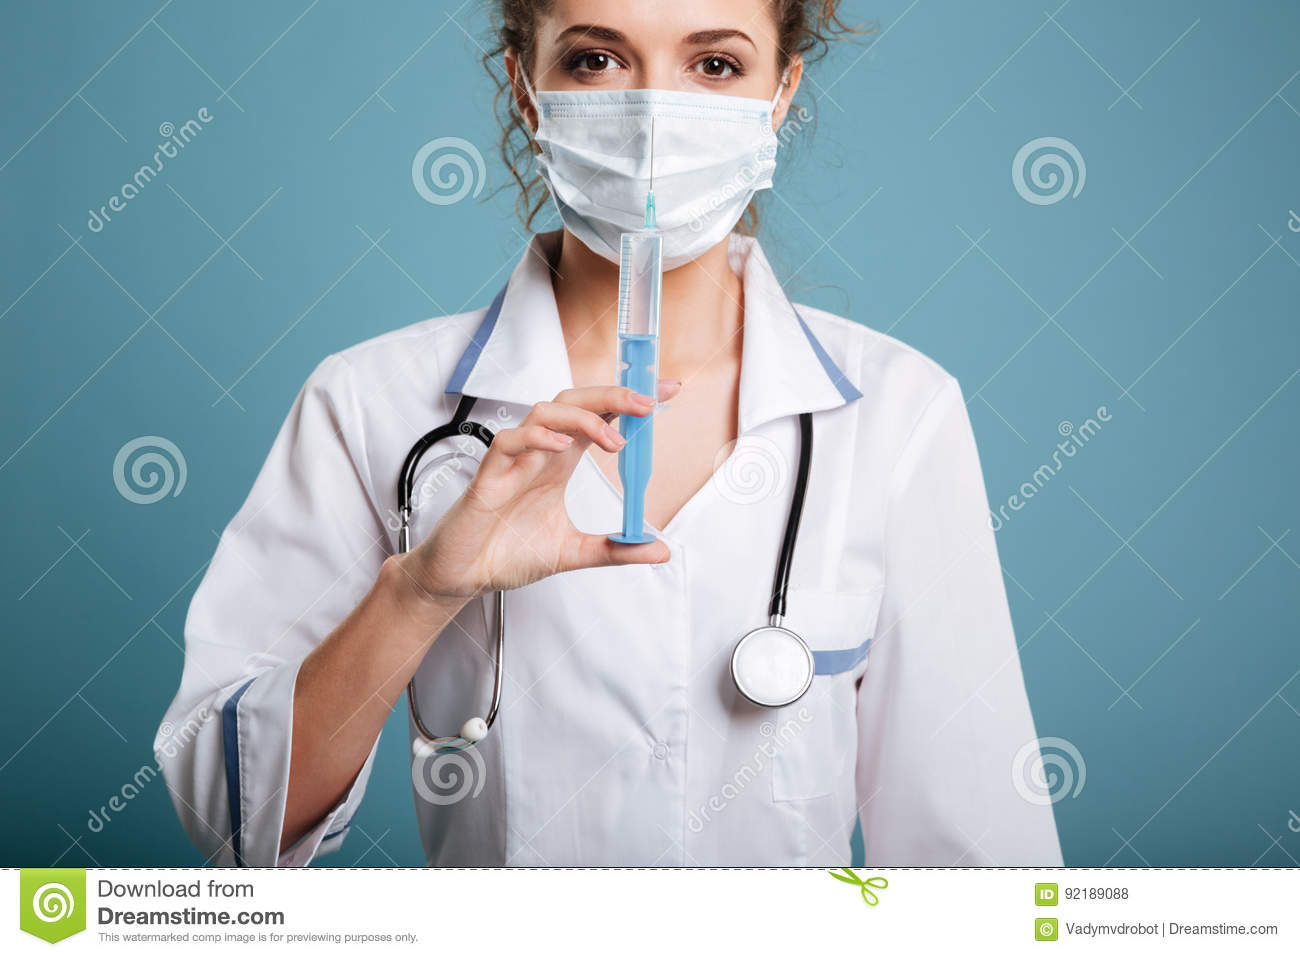mask: (536, 85, 770, 285)
